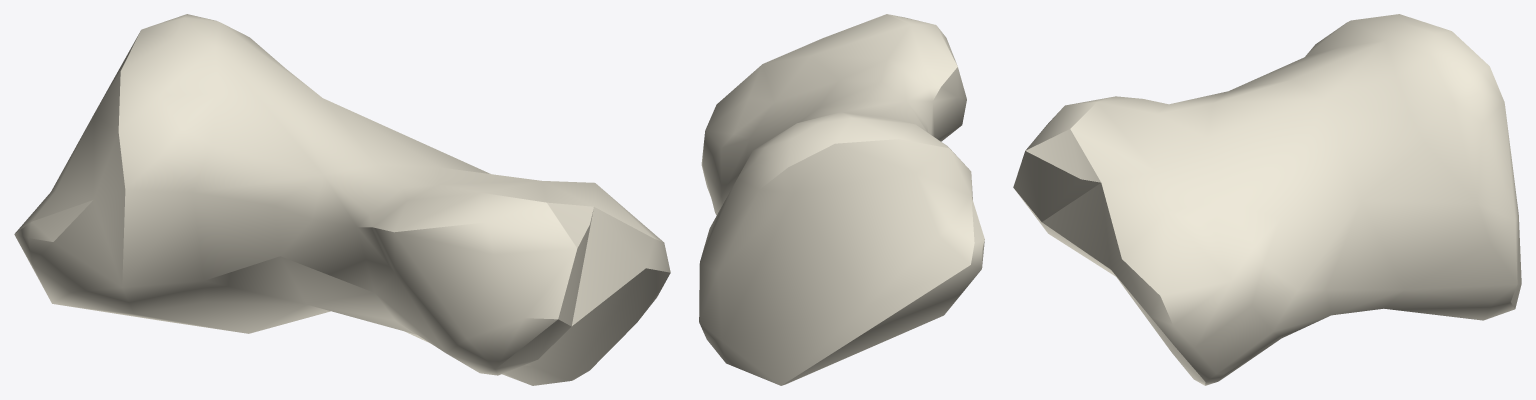
Rendered from fma32646_fj6404.glb.
3 renders of one model, left to right at view 1: azimuth 30°, elevation 25°; view 2: azimuth 150°, elevation 25°; view 3: azimuth 270°, elevation 25°, orthographic. The views are drawn at different scales.
Parts seen in each view (by area): view 1: FMA32646_FJ6404; view 2: FMA32646_FJ6404; view 3: FMA32646_FJ6404.
Boxes of the visible parts, x1=… form: FMA32646_FJ6404: x1=14, y1=14, x2=670, y2=385; FMA32646_FJ6404: x1=699, y1=14, x2=984, y2=385; FMA32646_FJ6404: x1=1013, y1=14, x2=1521, y2=385.
Size of the model in its own units: 0.0124 by 0.00778 by 0.0135.
